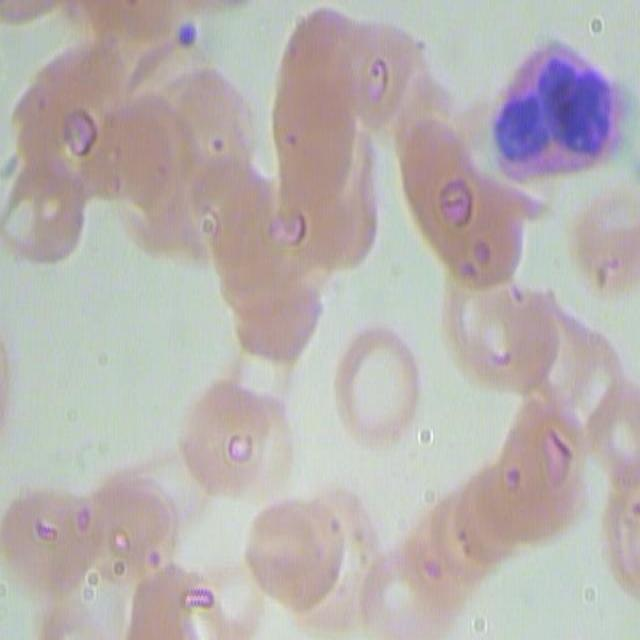RBC: (275, 12, 387, 259), (372, 123, 511, 289), (28, 63, 170, 214), (432, 265, 556, 416), (168, 205, 322, 293), (242, 510, 384, 604), (94, 452, 185, 598), (152, 67, 254, 194), (498, 431, 634, 518), (15, 483, 116, 588), (342, 33, 434, 133), (103, 579, 250, 640), (206, 385, 282, 499), (354, 325, 420, 456), (558, 331, 633, 440), (402, 528, 500, 609), (9, 145, 71, 272), (451, 489, 561, 552), (232, 282, 327, 352), (47, 0, 200, 24), (2, 1, 88, 37)
WBC: (496, 52, 640, 215)
platelets: (160, 19, 218, 54)
